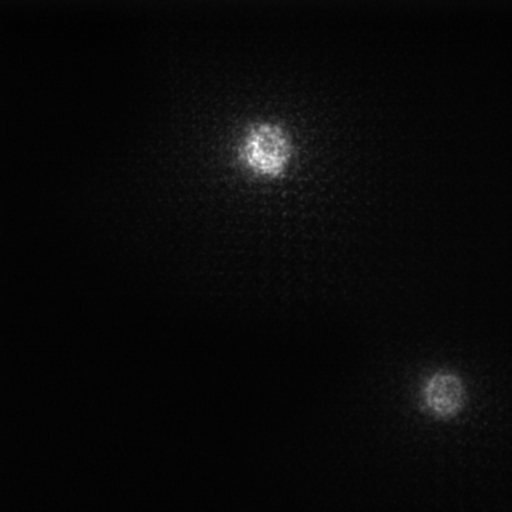lam3: (237, 123, 293, 177), (423, 374, 461, 415)
